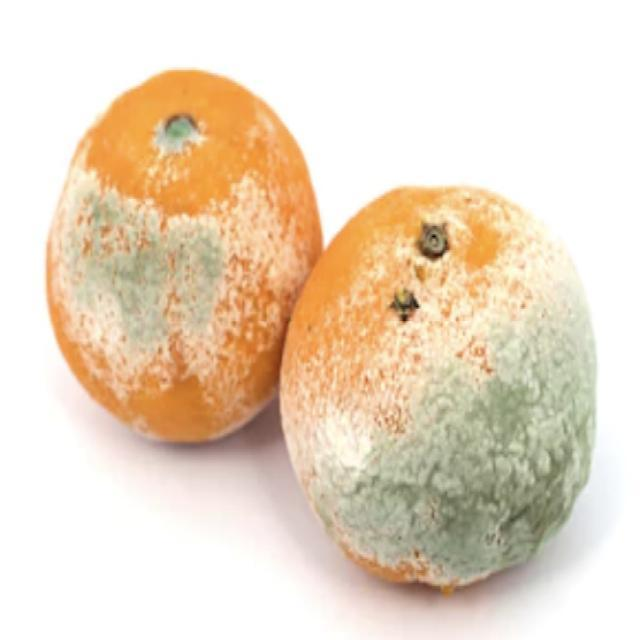sangat-busuk: (281, 187, 595, 588)
sedikit-busuk: (48, 71, 321, 440)
